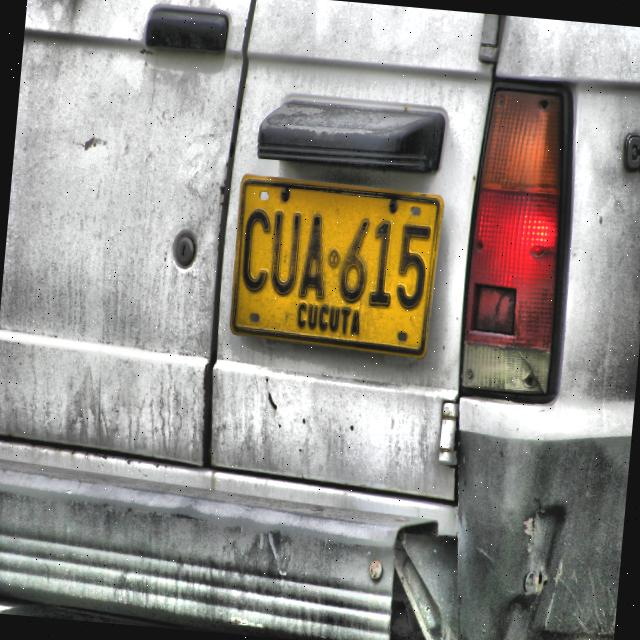plate: (229, 173, 444, 359)
